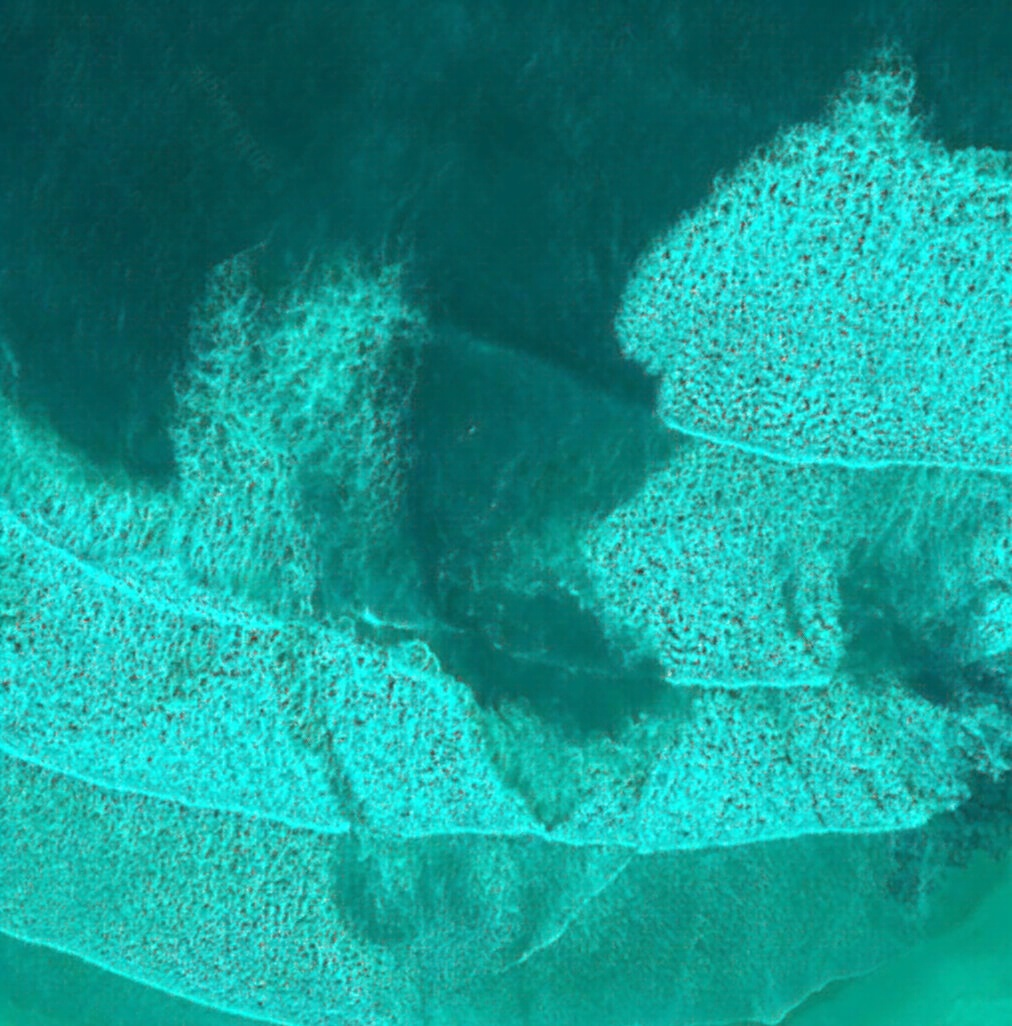rip_current: (214, 151, 778, 757)
